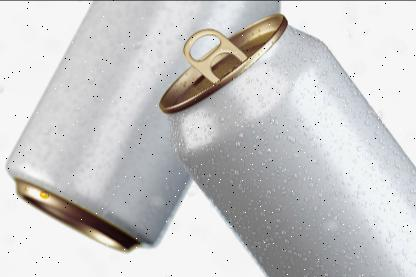Can: (6, 1, 280, 251), (159, 14, 416, 277)
